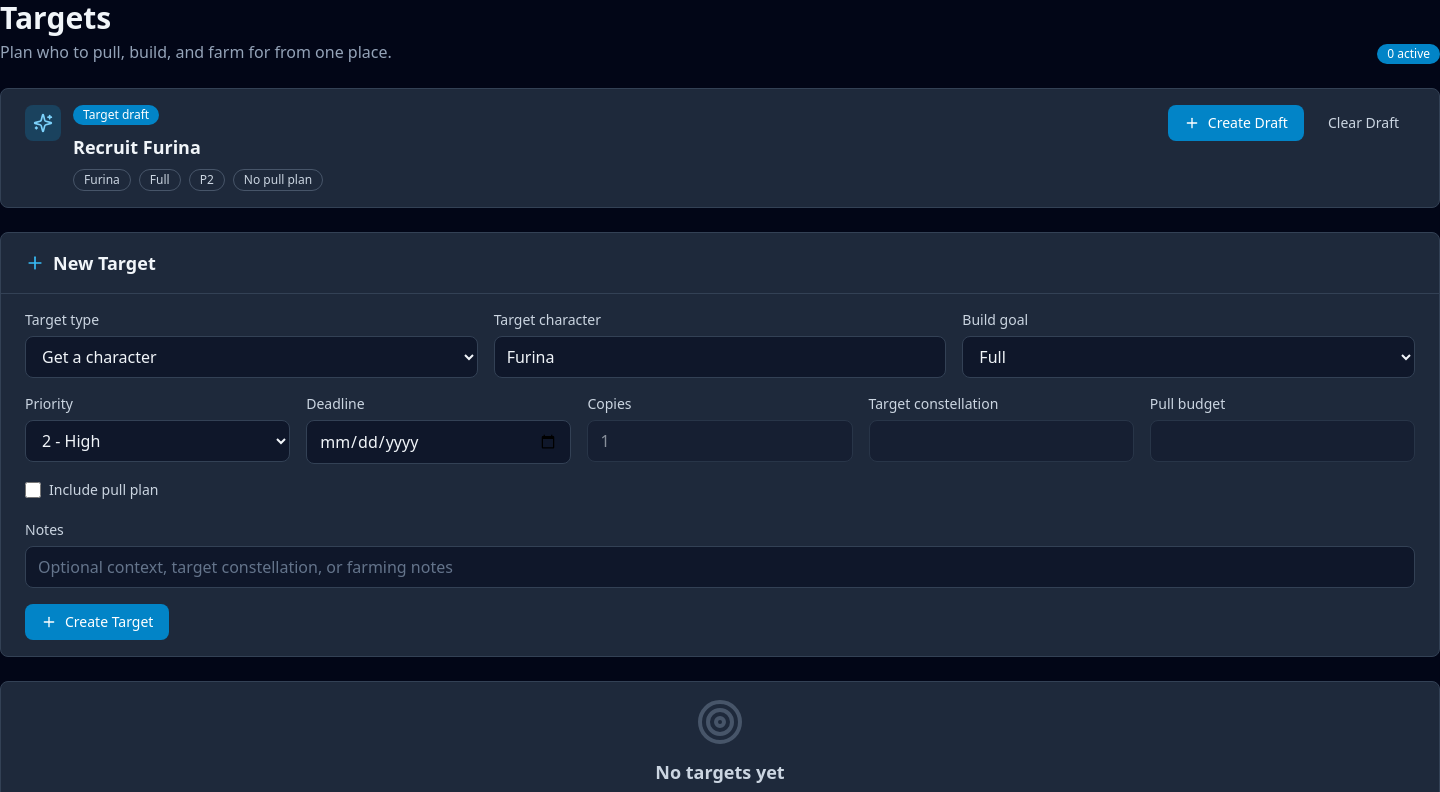
Test: CampaignsPage › campaign creation › clears the campaign draft without clearing the editable form values
Expected: the text "Target draft" is shown, [73, 105, 159, 125]
Click the button "Clear Draft": (1363, 123) [1312, 105, 1415, 141]
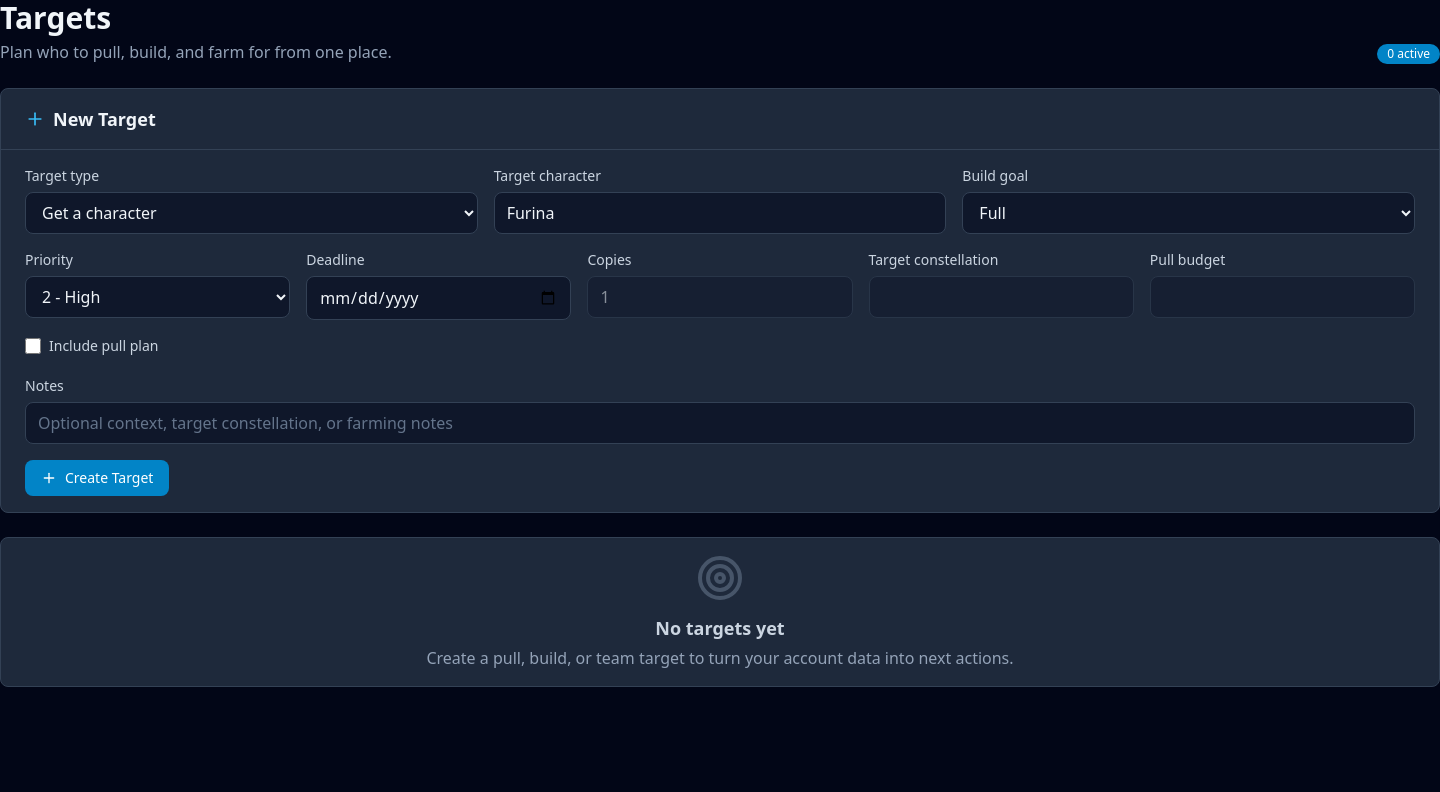
Expected: the dropdown labelled "Target character" holds "Furina", [494, 192, 946, 234]
Result: the text "Target draft" is gone
